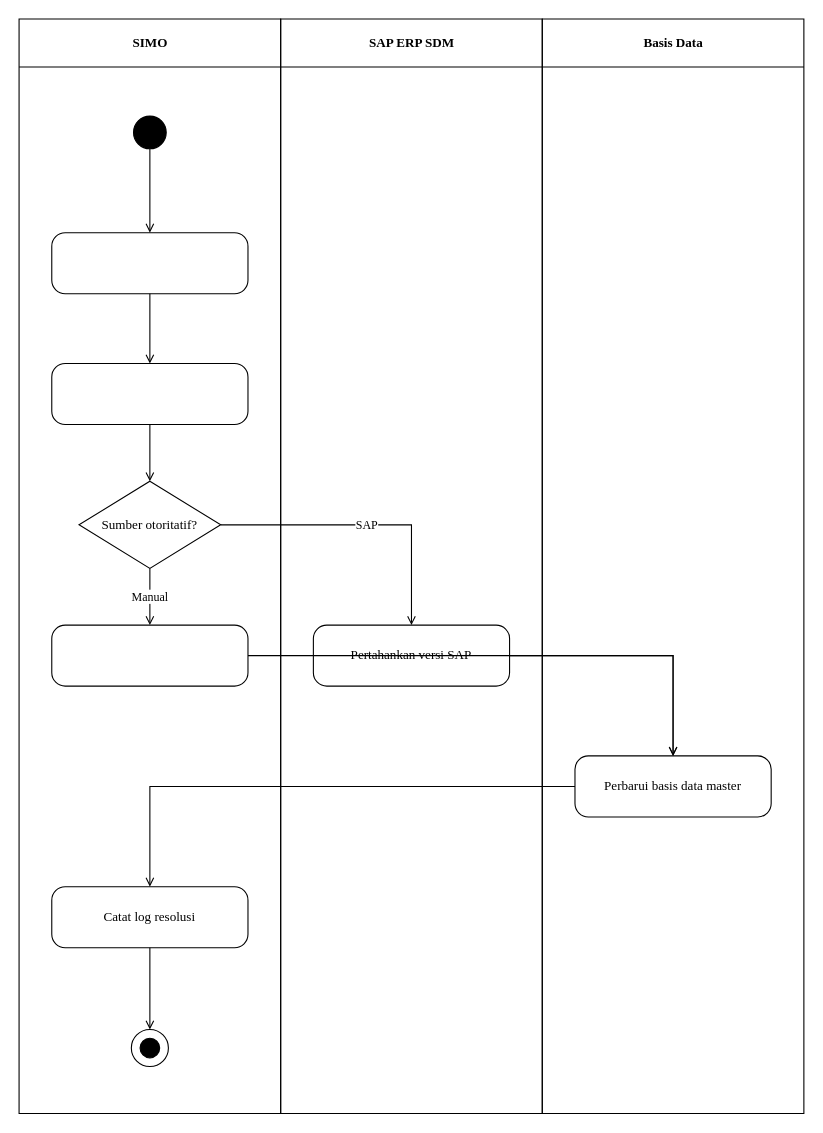
Some shapes in this 823 by 1133 pixel diagram are drawn without their labels. Here are the shapes that lost their labels. From the top down, the centre of each, then its label:
the point at 149,263: Deteksi konflik data master
the point at 149,393: Bandingkan versi SIMO dan SAP
the point at 149,655: Tandai tinjauan manual
